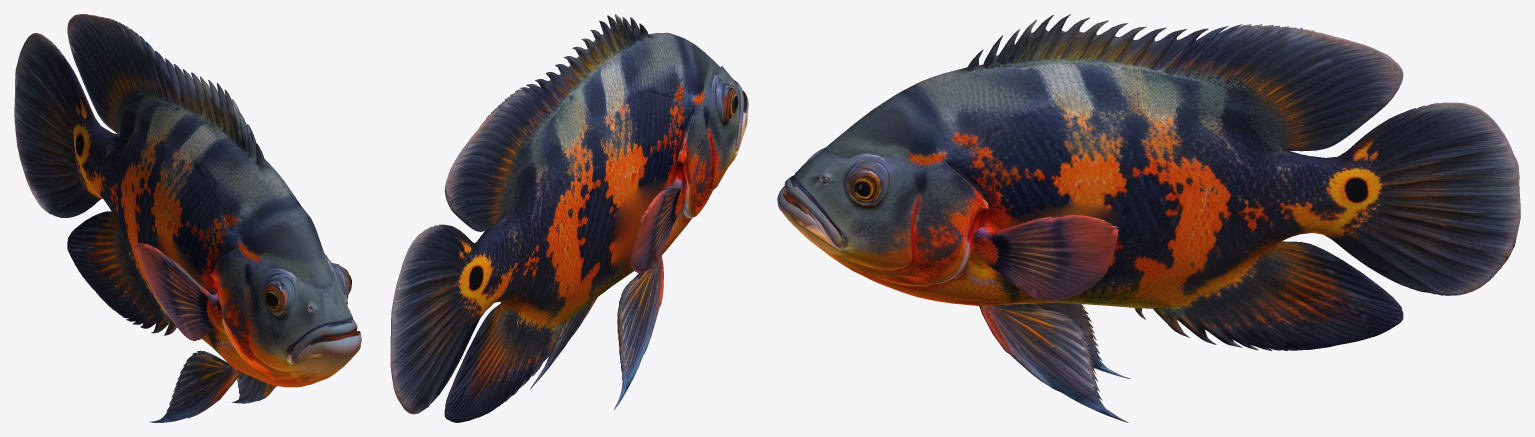
Rendered from cichlid-0.glb.
The picture shows the model from 3 angles, left to right: view 1: azimuth 30°, elevation 25°; view 2: azimuth 150°, elevation 25°; view 3: azimuth 270°, elevation 25°; orthographic projection. The views are drawn at different scales.
Parts seen in each view (by area): view 1: Body; view 2: Body; view 3: Body.
Boxes of the visible parts, x1=… form: Body: x1=14, y1=14, x2=361, y2=422; Body: x1=390, y1=14, x2=748, y2=422; Body: x1=777, y1=14, x2=1520, y2=422.
Size of the model in its own units: 0.163 by 0.4312 by 0.7505.
1 material, 1 textured.
